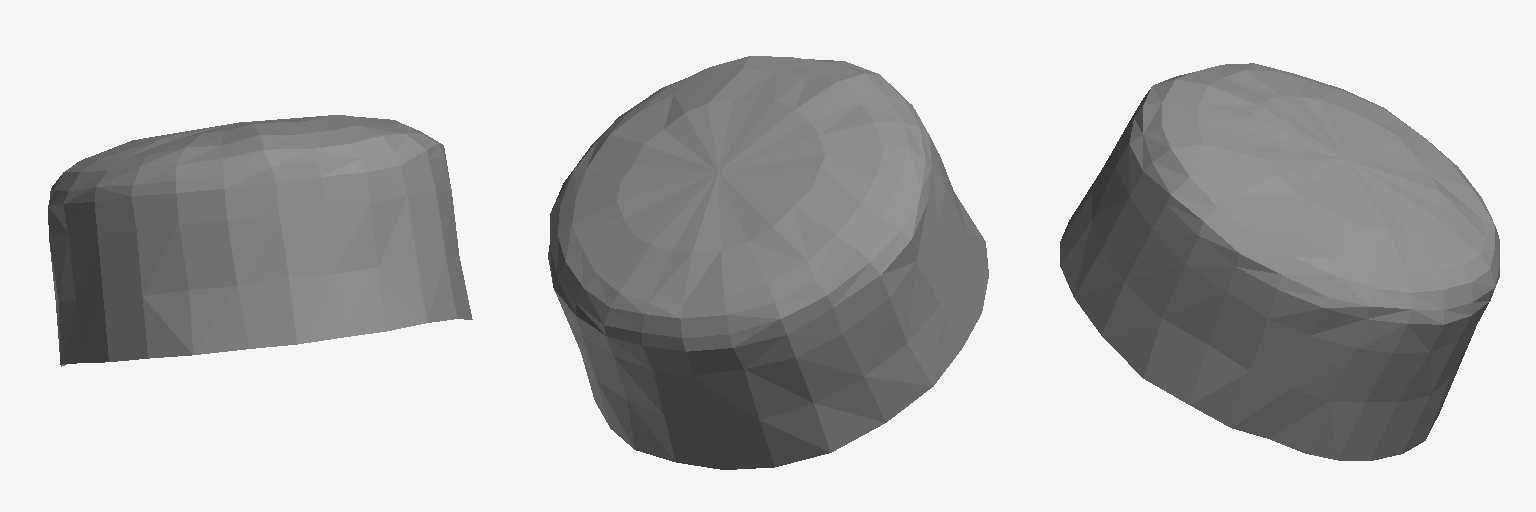
Rendered from left_x_button.obj.
3 renders of one model, left to right at view 1: azimuth 30°, elevation 25°; view 2: azimuth 150°, elevation 25°; view 3: azimuth 270°, elevation 25°, orthographic.
Visible parts, largest first — view 1: left_x_button Mesh; view 2: left_x_button Mesh; view 3: left_x_button Mesh.
Part boxes in pixels (x1,y1,x2,y2): left_x_button Mesh: (48, 115, 472, 366); left_x_button Mesh: (548, 56, 988, 469); left_x_button Mesh: (1060, 63, 1499, 460).
Bounding box in the file's own units: 0.0092 × 0.0074 × 0.0095.